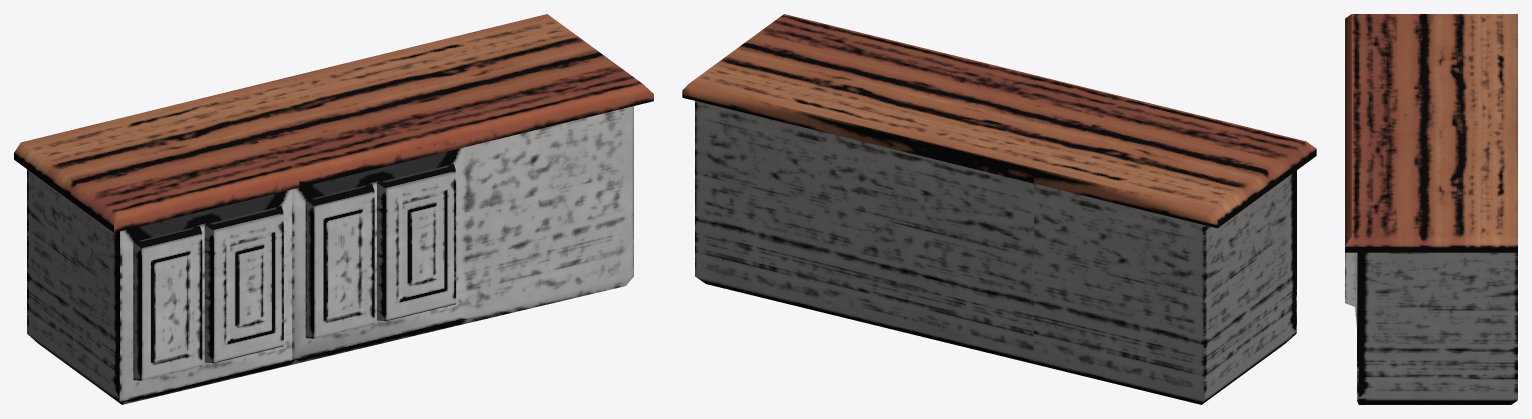
File: CabinetTable.fbx
3 renders of one model, left to right at view 1: azimuth 30°, elevation 25°; view 2: azimuth 150°, elevation 25°; view 3: azimuth 270°, elevation 25°, orthographic. The views are drawn at different scales.
Visible parts, largest first — view 1: polySurface33; view 2: polySurface33; view 3: polySurface33.
Boxes of the visible parts, <box> form: polySurface33: <box>14,14,653,404</box>; polySurface33: <box>682,14,1316,404</box>; polySurface33: <box>1345,14,1517,404</box>.
Size of the model in its own units: 336 by 120 by 108.
